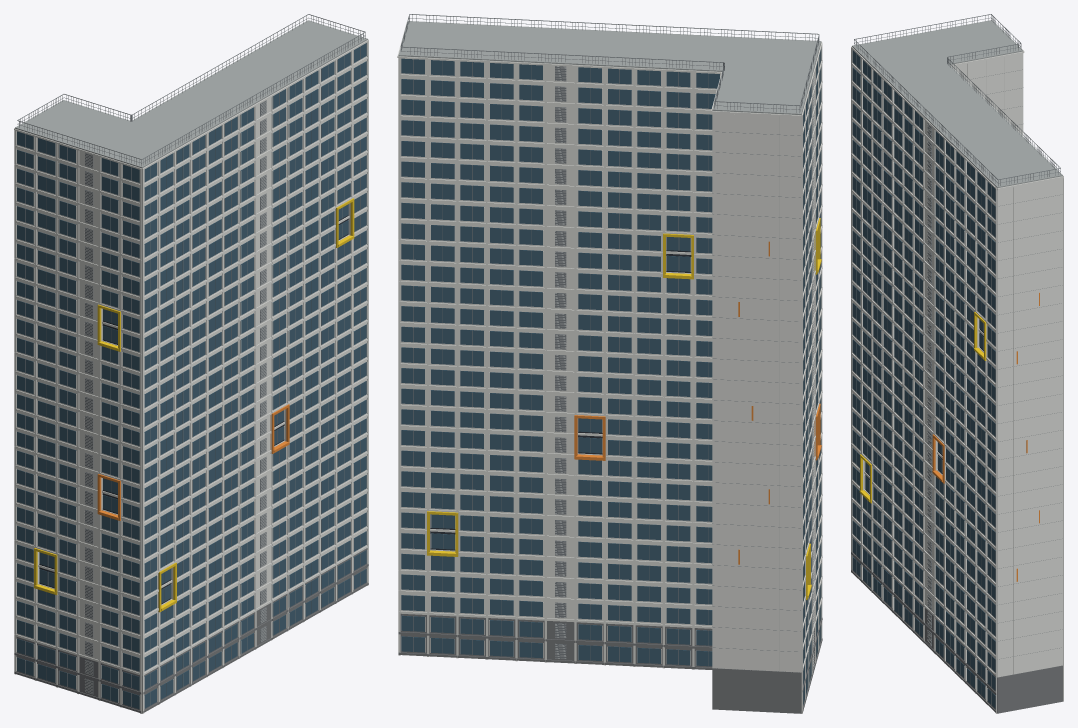
Rendered from bespoke-songpa-helio-city-205.glb.
3 views of the same model, side by side, from view 1: azimuth 30°, elevation 25°; view 2: azimuth 150°, elevation 25°; view 3: azimuth 270°, elevation 25° (orthographic). The views are drawn at different scales.
Parts seen in each view (by area): view 1: Helio205_editable_Helio205_dark_blue_grey_glazing, Helio205_editable_Helio205_white_slab_frames, Helio205_editable_Helio205_grey_service_grille, Helio205_editable_Helio205_low_roof_deck, Helio205_editable_Helio205_dark_grey_twofloor_base, Helio205_editable_Helio205_blankwall_grey_panels, Helio205_editable_Helio205_yellow_projecting_rectangular_fra, Helio205_editable_Helio205_orange_narrow_accent; view 2: Helio205_editable_Helio205_white_slab_frames, Helio205_editable_Helio205_dark_blue_grey_glazing, Helio205_editable_Helio205_low_roof_deck, Helio205_editable_Helio205_grey_service_grille, Helio205_editable_Helio205_dark_grey_twofloor_base, Helio205_editable_Helio205_blankwall_grey_panels, Helio205_editable_Helio205_yellow_projecting_rectangular_fra, Helio205_editable_Helio205_orange_narrow_accent; view 3: Helio205_editable_Helio205_white_slab_frames, Helio205_editable_Helio205_dark_blue_grey_glazing, Helio205_editable_Helio205_low_roof_deck, Helio205_editable_Helio205_grey_service_grille, Helio205_editable_Helio205_dark_grey_twofloor_base, Helio205_editable_Helio205_blankwall_grey_panels, Helio205_editable_Helio205_yellow_projecting_rectangular_fra, Helio205_editable_Helio205_orange_narrow_accent.
Boxes of the visible parts, x1,y1,x2,y2 form: Helio205_editable_Helio205_dark_blue_grey_glazing: (17, 43, 366, 709); Helio205_editable_Helio205_white_slab_frames: (14, 39, 368, 713); Helio205_editable_Helio205_grey_service_grille: (17, 14, 365, 706); Helio205_editable_Helio205_low_roof_deck: (15, 20, 367, 168); Helio205_editable_Helio205_dark_grey_twofloor_base: (14, 548, 368, 713); Helio205_editable_Helio205_blankwall_grey_panels: (85, 100, 266, 693); Helio205_editable_Helio205_yellow_projecting_rectangular_fra: (34, 198, 354, 612); Helio205_editable_Helio205_orange_narrow_accent: (97, 404, 289, 520); Helio205_editable_Helio205_white_slab_frames: (397, 22, 822, 713); Helio205_editable_Helio205_dark_blue_grey_glazing: (401, 49, 821, 704); Helio205_editable_Helio205_low_roof_deck: (398, 21, 821, 114); Helio205_editable_Helio205_grey_service_grille: (400, 14, 820, 703); Helio205_editable_Helio205_dark_grey_twofloor_base: (398, 613, 822, 713); Helio205_editable_Helio205_blankwall_grey_panels: (555, 66, 814, 671); Helio205_editable_Helio205_yellow_projecting_rectangular_fra: (427, 218, 821, 599); Helio205_editable_Helio205_orange_narrow_accent: (574, 241, 821, 564); Helio205_editable_Helio205_white_slab_frames: (851, 24, 1063, 713); Helio205_editable_Helio205_dark_blue_grey_glazing: (852, 50, 995, 708); Helio205_editable_Helio205_low_roof_deck: (852, 20, 1062, 187); Helio205_editable_Helio205_grey_service_grille: (854, 14, 1062, 705); Helio205_editable_Helio205_dark_grey_twofloor_base: (851, 537, 1062, 713); Helio205_editable_Helio205_blankwall_grey_panels: (927, 57, 1013, 674); Helio205_editable_Helio205_yellow_projecting_rectangular_fra: (859, 312, 987, 503); Helio205_editable_Helio205_orange_narrow_accent: (932, 292, 1039, 581).
Bounding box in the file's own units: 55.7 × 82.4 × 29.81.
